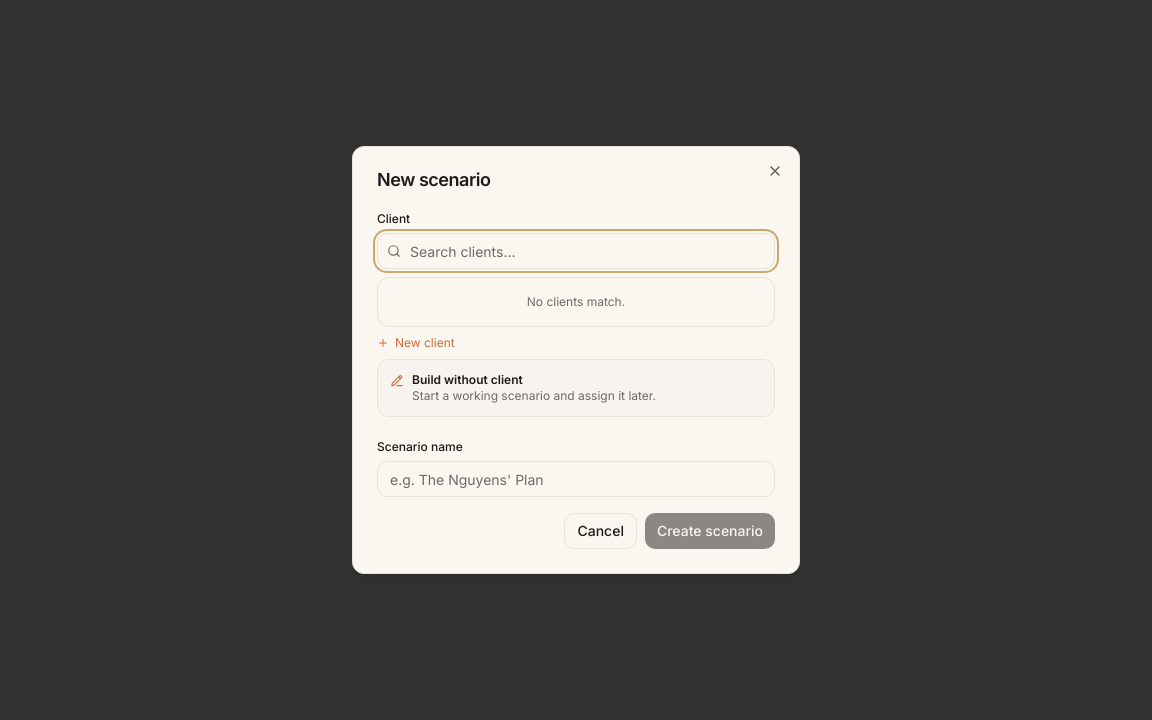
Test: role-aware scenario UI › supports the build-without-client path in NewScenarioDialog
Later steps or results of the test are not shown.
Click the text "Build without client" at (467,380), box [412,372,523,387]
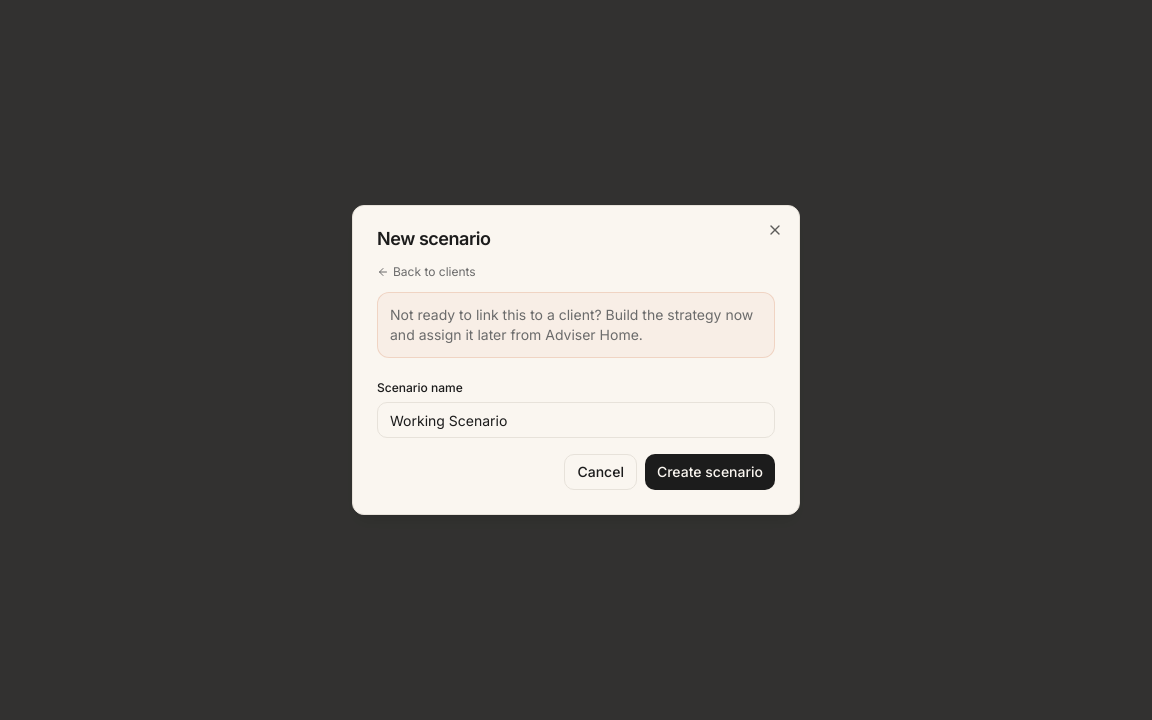
Now the text "assign it later" is shown, box [390,306,753,343]
Now the field showing "Working Scenario" is shown, box [377,402,775,438]
